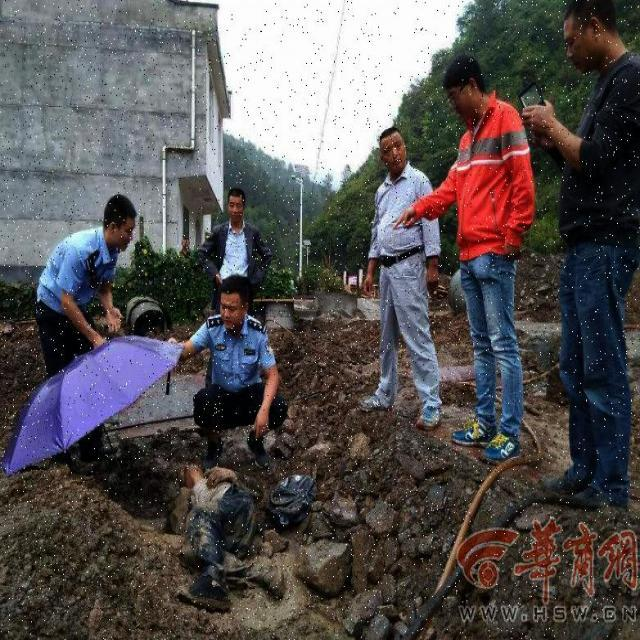fall: (166, 458, 274, 609)
